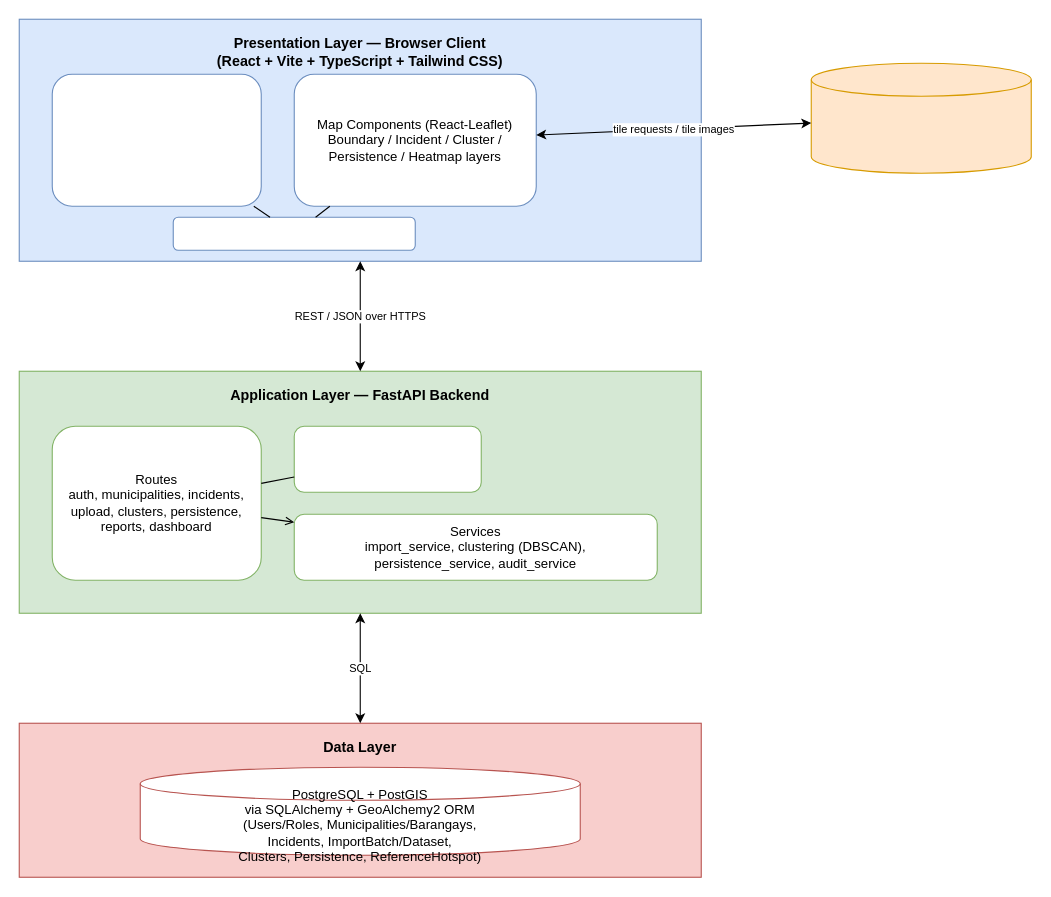
Some shapes in this 1051 by 897 pixel diagram are drawn without their labels. The centre of each missing label's shape, as x and y in pixels:
Axios API Client: the point at 293,233
Core (cross-cutting) JWT + bcrypt auth, RBAC require_role: the point at 387,458
OpenStreetMap Tile Server (external service): the point at 920,117
Pages Login, Dashboard, Map, Upload, Records, Reports: the point at 156,139
